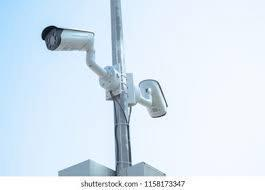Speed-Camera: (38, 20, 101, 65), (136, 69, 174, 126)
